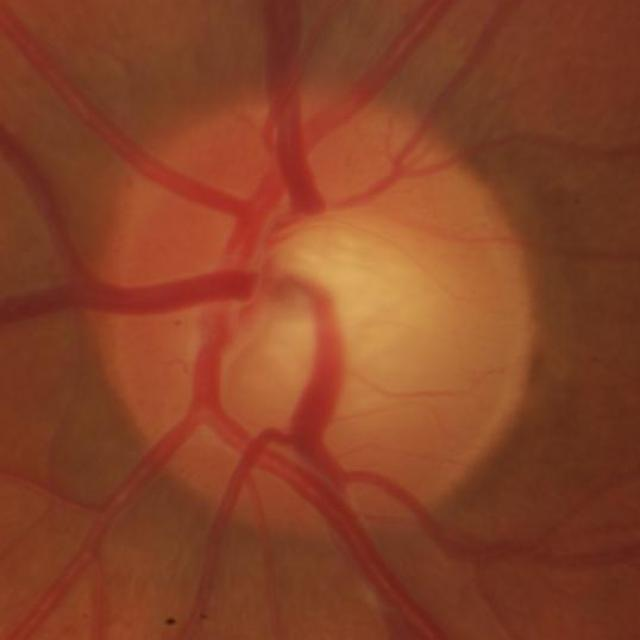OC: (270, 221, 414, 358)
OD: (88, 104, 530, 534)
